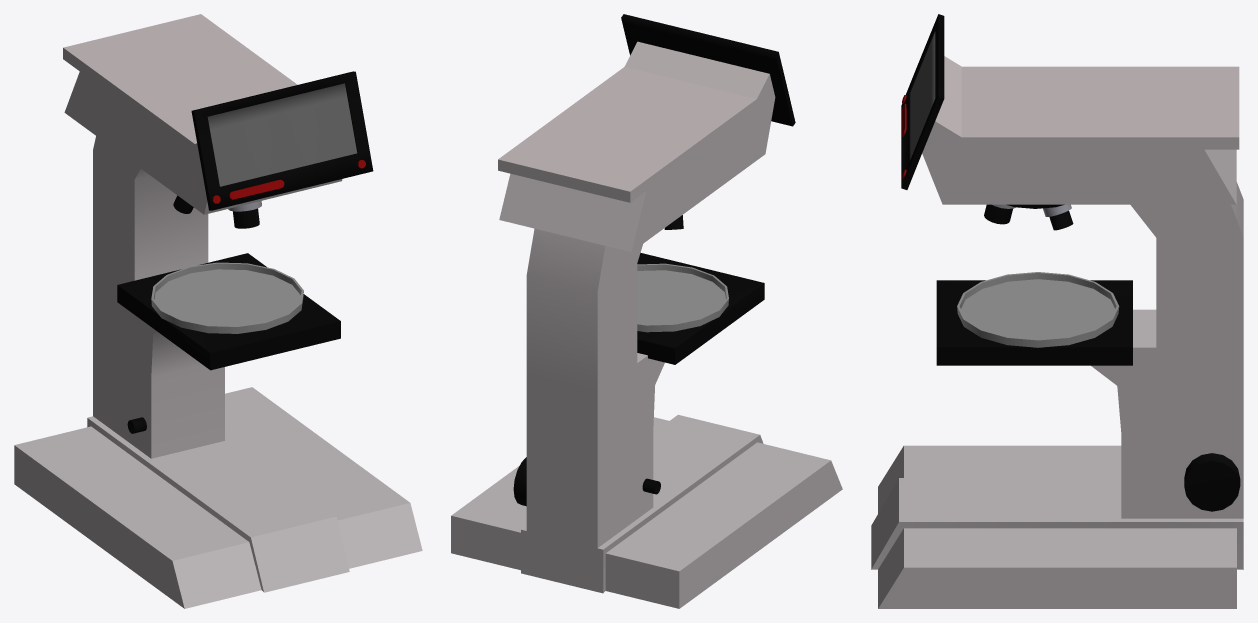
Rendered from Microscope.fbx.
3 views of the same model, side by side, from view 1: azimuth 30°, elevation 25°; view 2: azimuth 150°, elevation 25°; view 3: azimuth 270°, elevation 25° (orthographic). The views are drawn at different scales.
Visible parts, largest first — view 1: Microscope; view 2: Microscope; view 3: Microscope.
Part boxes in pixels (box(x1,y1,x2,y2)): Microscope: box(14, 14, 422, 608); Microscope: box(451, 14, 842, 608); Microscope: box(871, 14, 1243, 608).
Size of the model in its own units: 9.33 by 17.51 by 12.01.
Materials: 1 (1 with a texture image).
